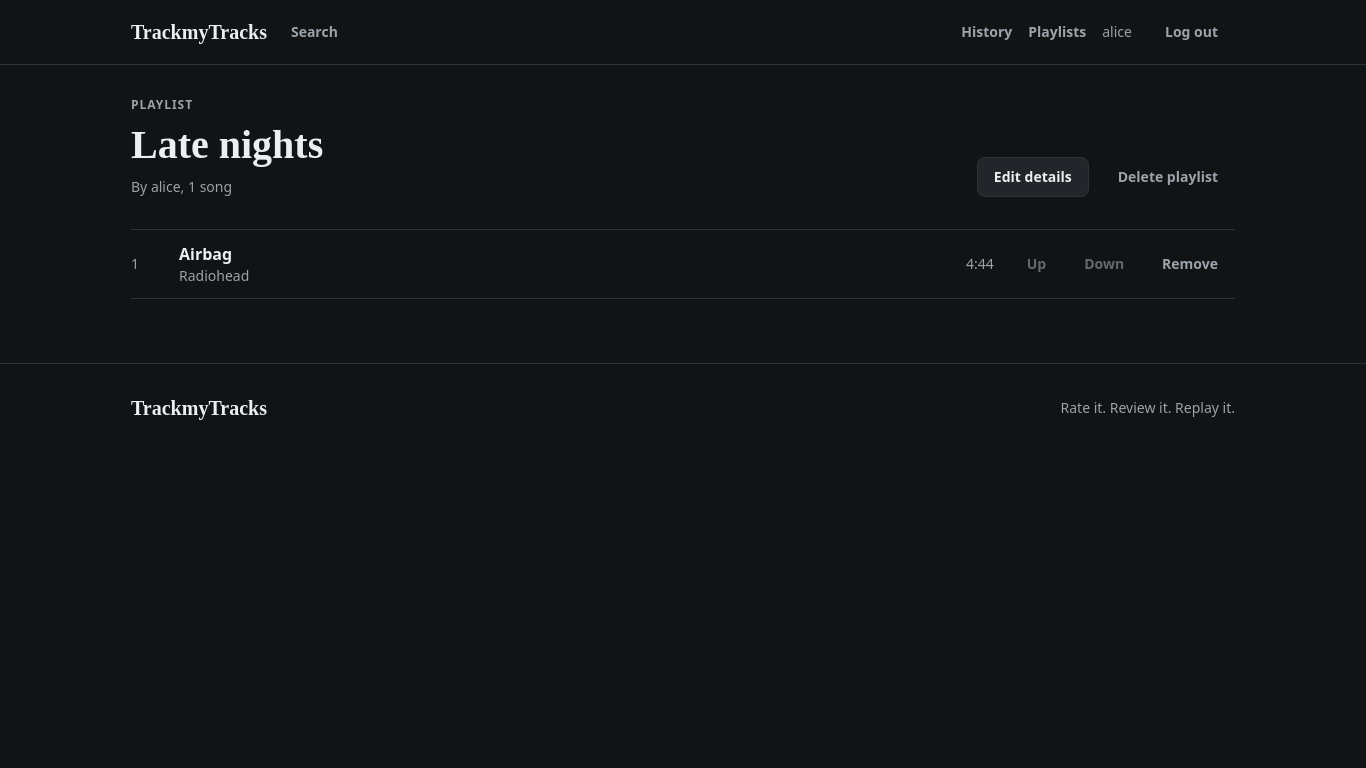
Test: playlist page › deletes after an inline confirmation
Click the button "Delete playlist".
click(1168, 177)  # box [1101,157,1235,197]
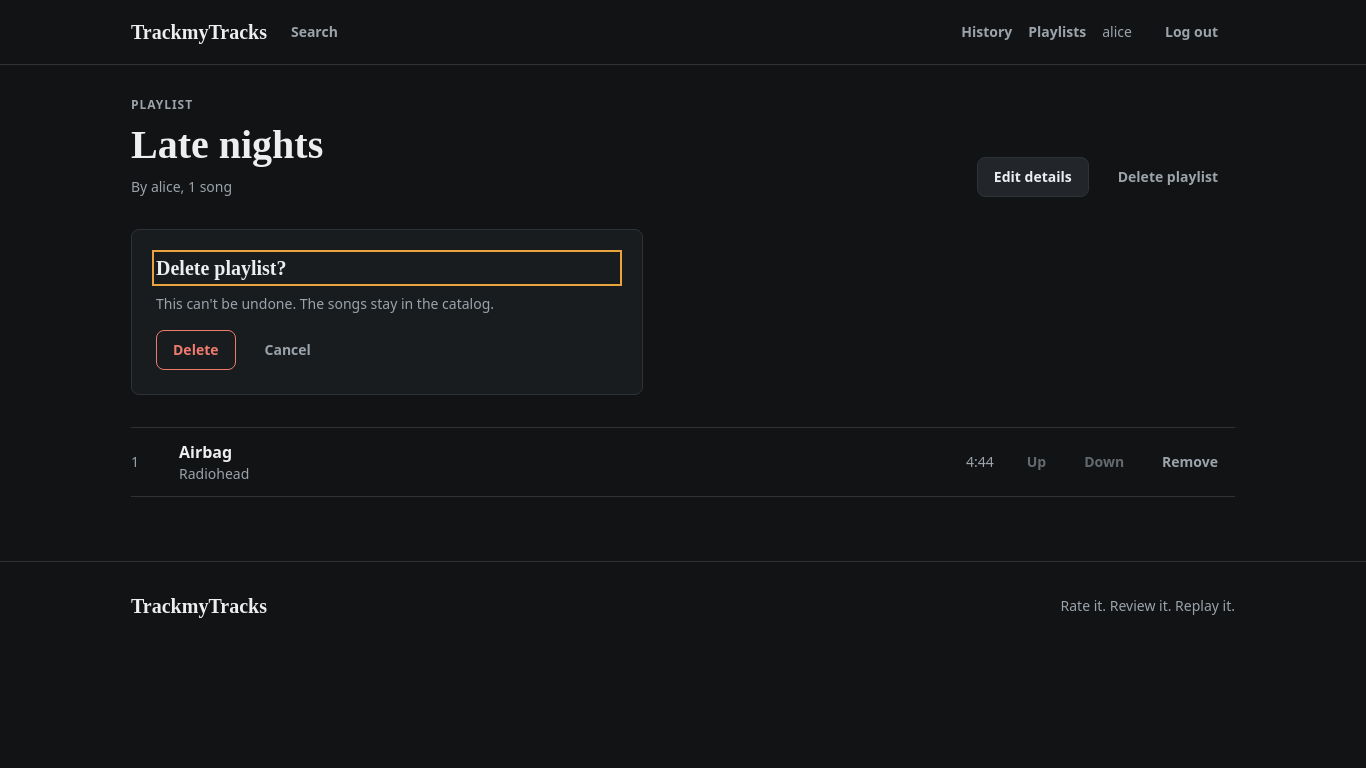
expect the heading "Delete playlist?" is shown: met, box [156,257,286,279]
Click the button "Delete".
click(196, 350)  # box [156,330,236,370]
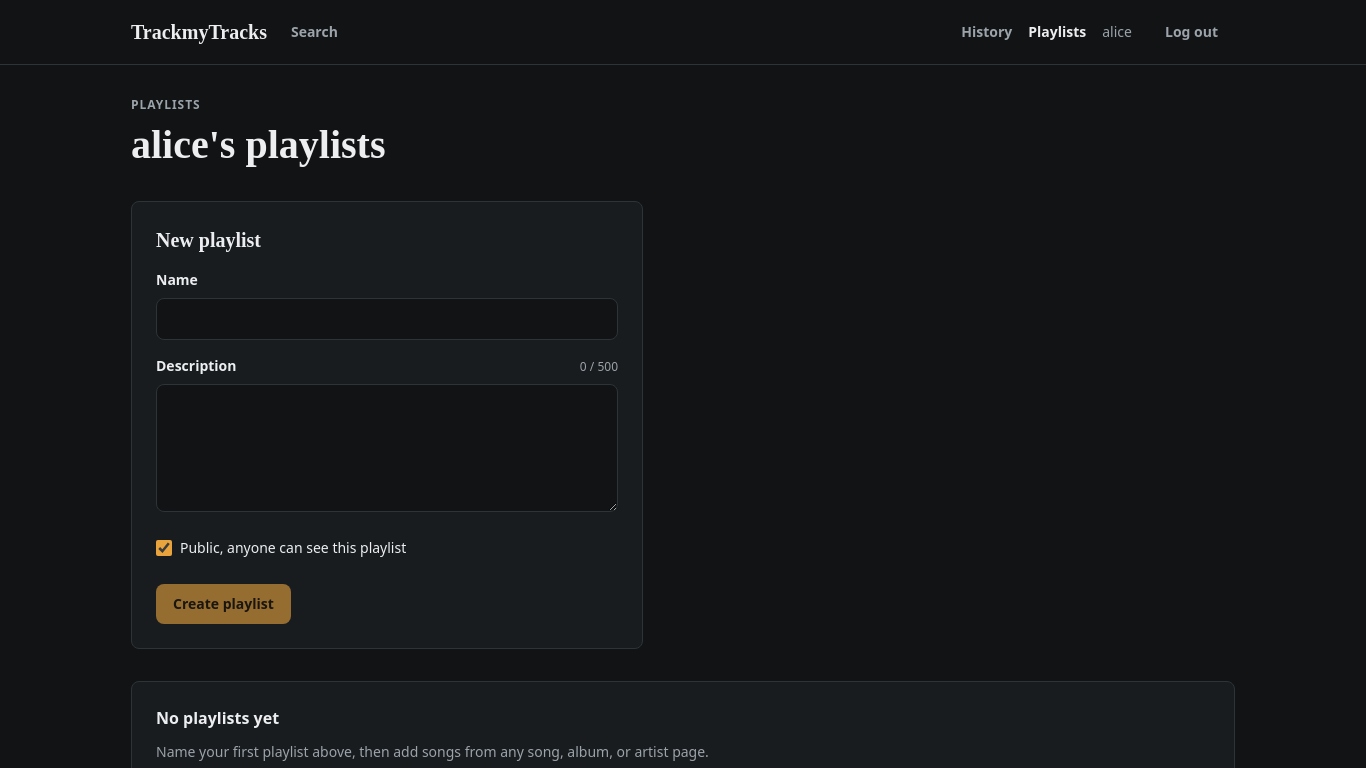
expect the heading "alice's playlists" is shown: met, box [131,121,386,169]
